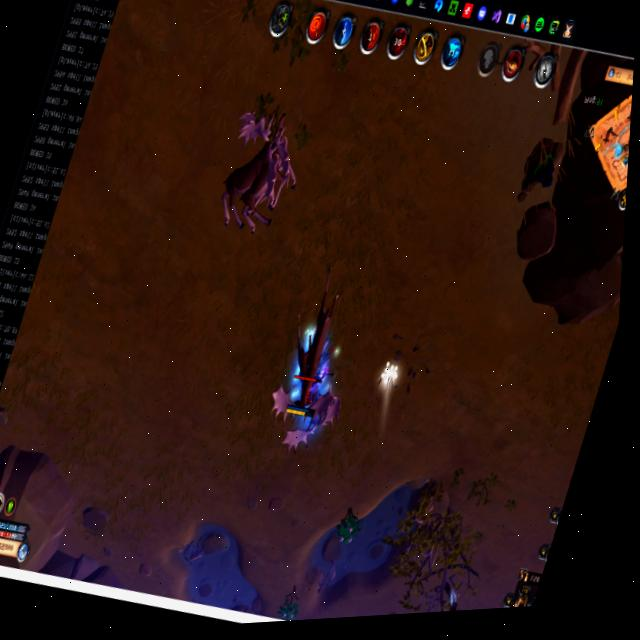hide: (330, 503, 367, 551), (274, 586, 304, 622)
mob: (201, 96, 320, 251)
ore: (250, 251, 382, 468), (429, 570, 478, 612)
red: (281, 367, 322, 422)
stone: (375, 354, 403, 392)
